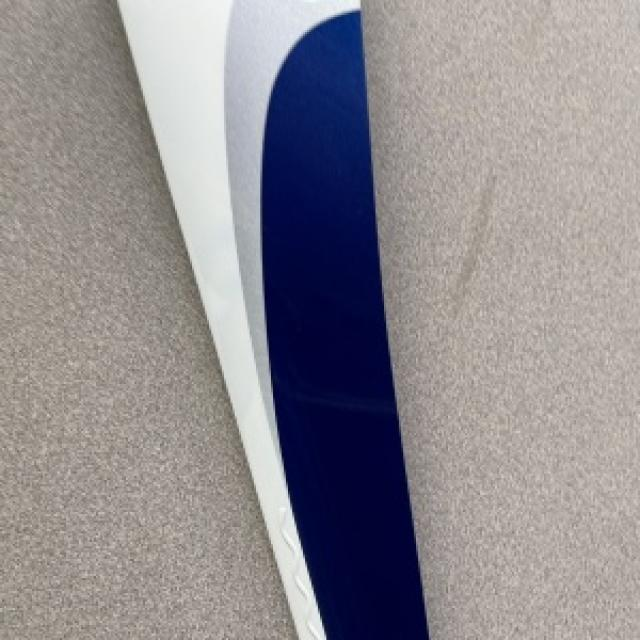healthy: (115, 0, 638, 638), (115, 0, 427, 638)
